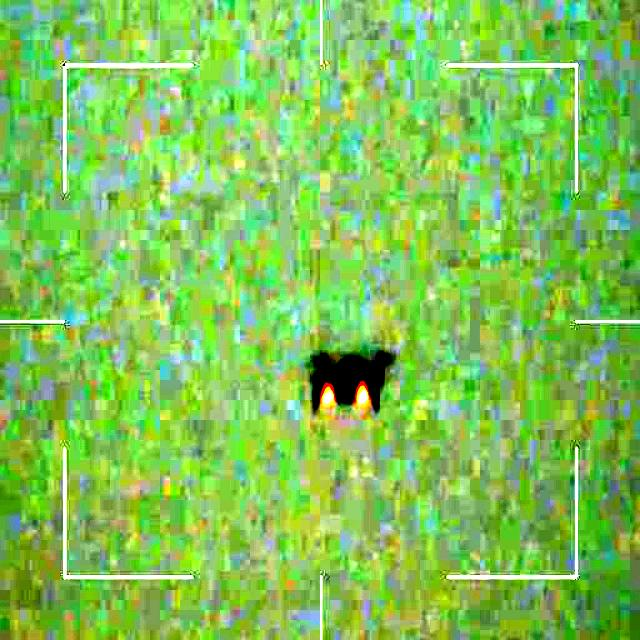bird: (304, 344, 398, 410)
